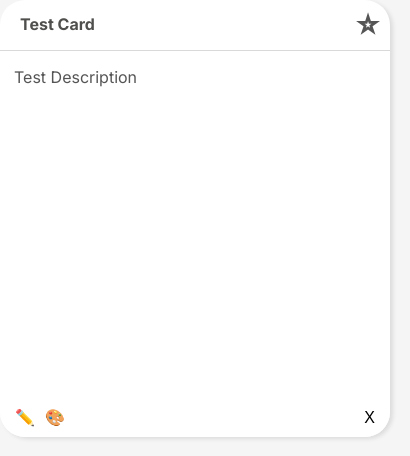
Test: Card Component › enters edit mode when edit button is clicked
Click the text "✏️" at (25, 418), box [15, 408, 35, 427]
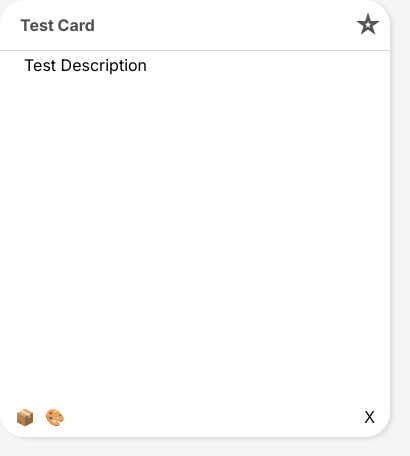
Check: the field showing "Test Card" is shown, box [10, 5, 355, 45]
Check: the text box showing "Test Description" is shown
